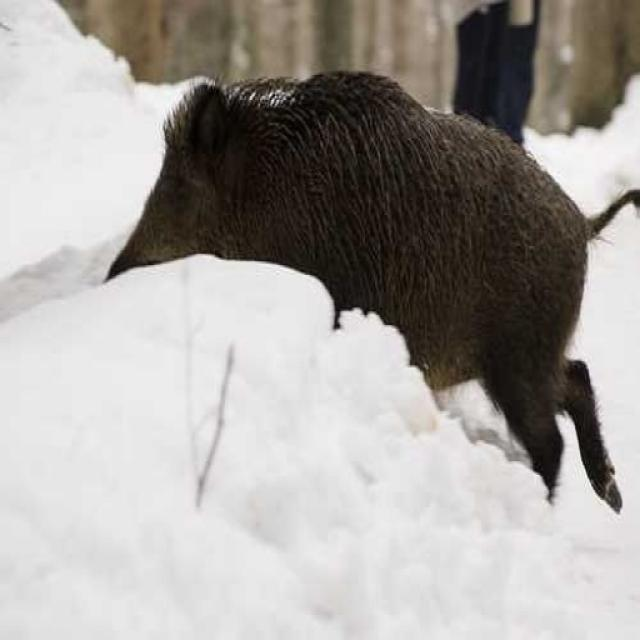pig: (111, 70, 640, 483)
